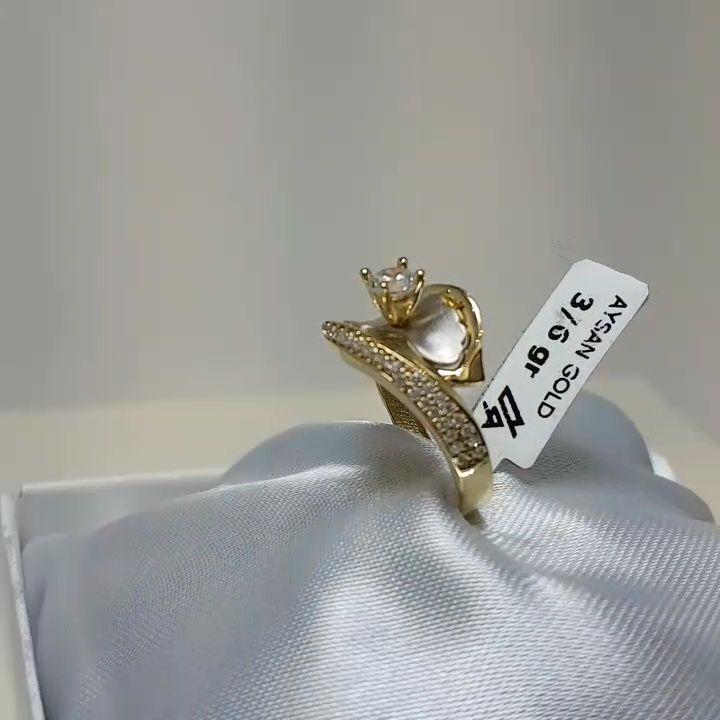Ring 6: (312, 246, 517, 510)
